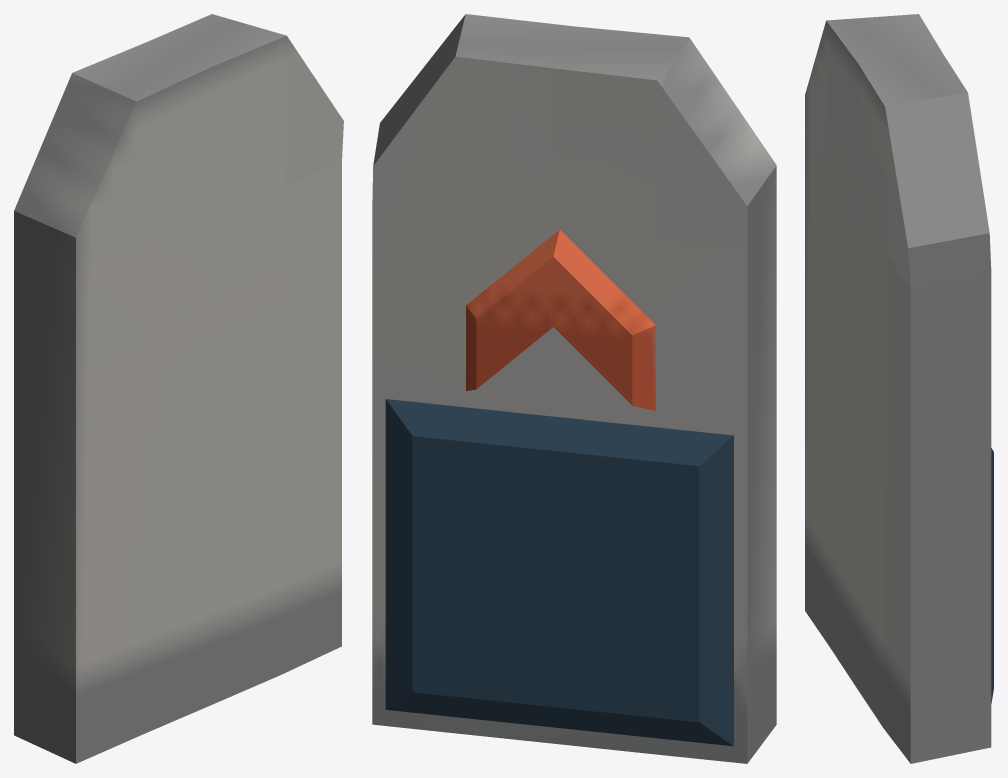
File: door.fbx
3 renders of one model, left to right at view 1: azimuth 30°, elevation 25°; view 2: azimuth 150°, elevation 25°; view 3: azimuth 270°, elevation 25°, orthographic. The views are drawn at different scales.
Visible parts, largest first — view 1: door; view 2: door; view 3: door.
Part boxes in pixels (bbox=[...]): door: bbox=[14, 14, 343, 763]; door: bbox=[372, 14, 776, 763]; door: bbox=[805, 14, 993, 763].
Size of the model in its own units: 80.23 by 145 by 39.65.
Materials: 1 (1 with a texture image).
